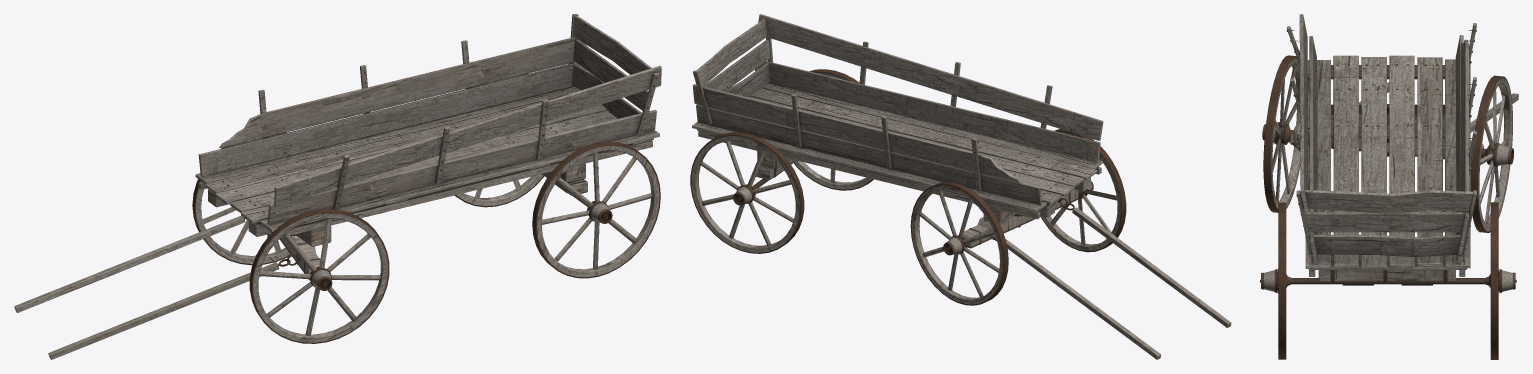
The model's file is cart.glb.
3 renders of one model, left to right at view 1: azimuth 30°, elevation 25°; view 2: azimuth 150°, elevation 25°; view 3: azimuth 270°, elevation 25°, orthographic. The views are drawn at different scales.
Parts seen in each view (by area): view 1: CartBody, wheel_fl, wheel_rl, CartSteer, wheel_fr, wheel_rr; view 2: CartBody, wheel_rr, wheel_fr, CartSteer, wheel_fl, wheel_rl; view 3: CartBody, wheel_fr, wheel_fl, wheel_rl, wheel_rr, CartSteer.
Boxes of the visible parts, x1=… form: CartBody: x1=195, y1=14, x2=661, y2=246; wheel_fl: x1=249, y1=209, x2=389, y2=343; wheel_rl: x1=532, y1=141, x2=660, y2=278; CartSteer: x1=14, y1=215, x2=320, y2=359; wheel_fr: x1=192, y1=132, x2=290, y2=265; wheel_rr: x1=454, y1=73, x2=544, y2=207; CartBody: x1=692, y1=14, x2=1103, y2=225; wheel_rr: x1=690, y1=132, x2=804, y2=253; wheel_fr: x1=910, y1=182, x2=1008, y2=305; CartSteer: x1=963, y1=189, x2=1231, y2=359; wheel_fl: x1=1041, y1=129, x2=1126, y2=252; wheel_rl: x1=793, y1=69, x2=873, y2=190; CartBody: x1=1286, y1=14, x2=1484, y2=285; wheel_fr: x1=1470, y1=75, x2=1513, y2=232; wheel_fl: x1=1262, y1=55, x2=1300, y2=212; wheel_rl: x1=1260, y1=202, x2=1292, y2=359; wheel_rr: x1=1484, y1=202, x2=1516, y2=359; CartSteer: x1=1290, y1=82, x2=1518, y2=159.
Size of the model in its own units: 390 by 120 by 140.
2 materials, 2 textured.
